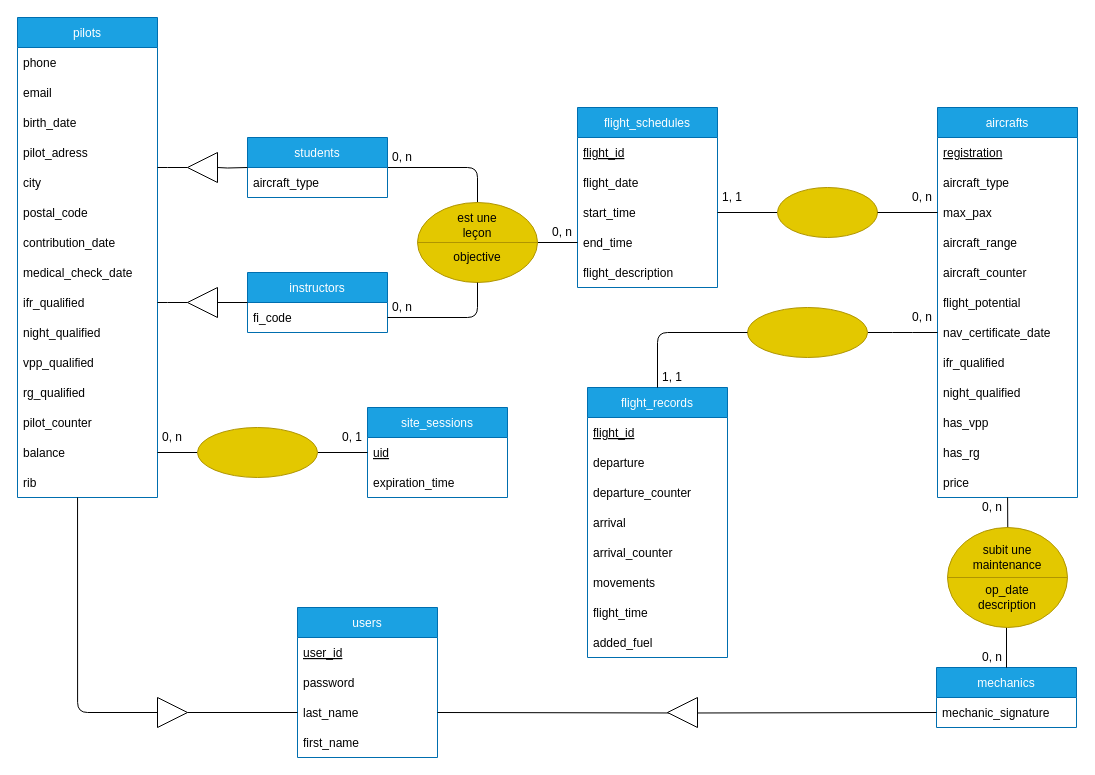
The diagram is 1095 pixels wide and 775 high, and some of its shapes have lost their labels. The centre of each missing label's shape, as x and y in pixels:
a effectué un vol: pixel 807 332
est connecté au site web: pixel 257 452
est prévu pour un vol: pixel 827 212
